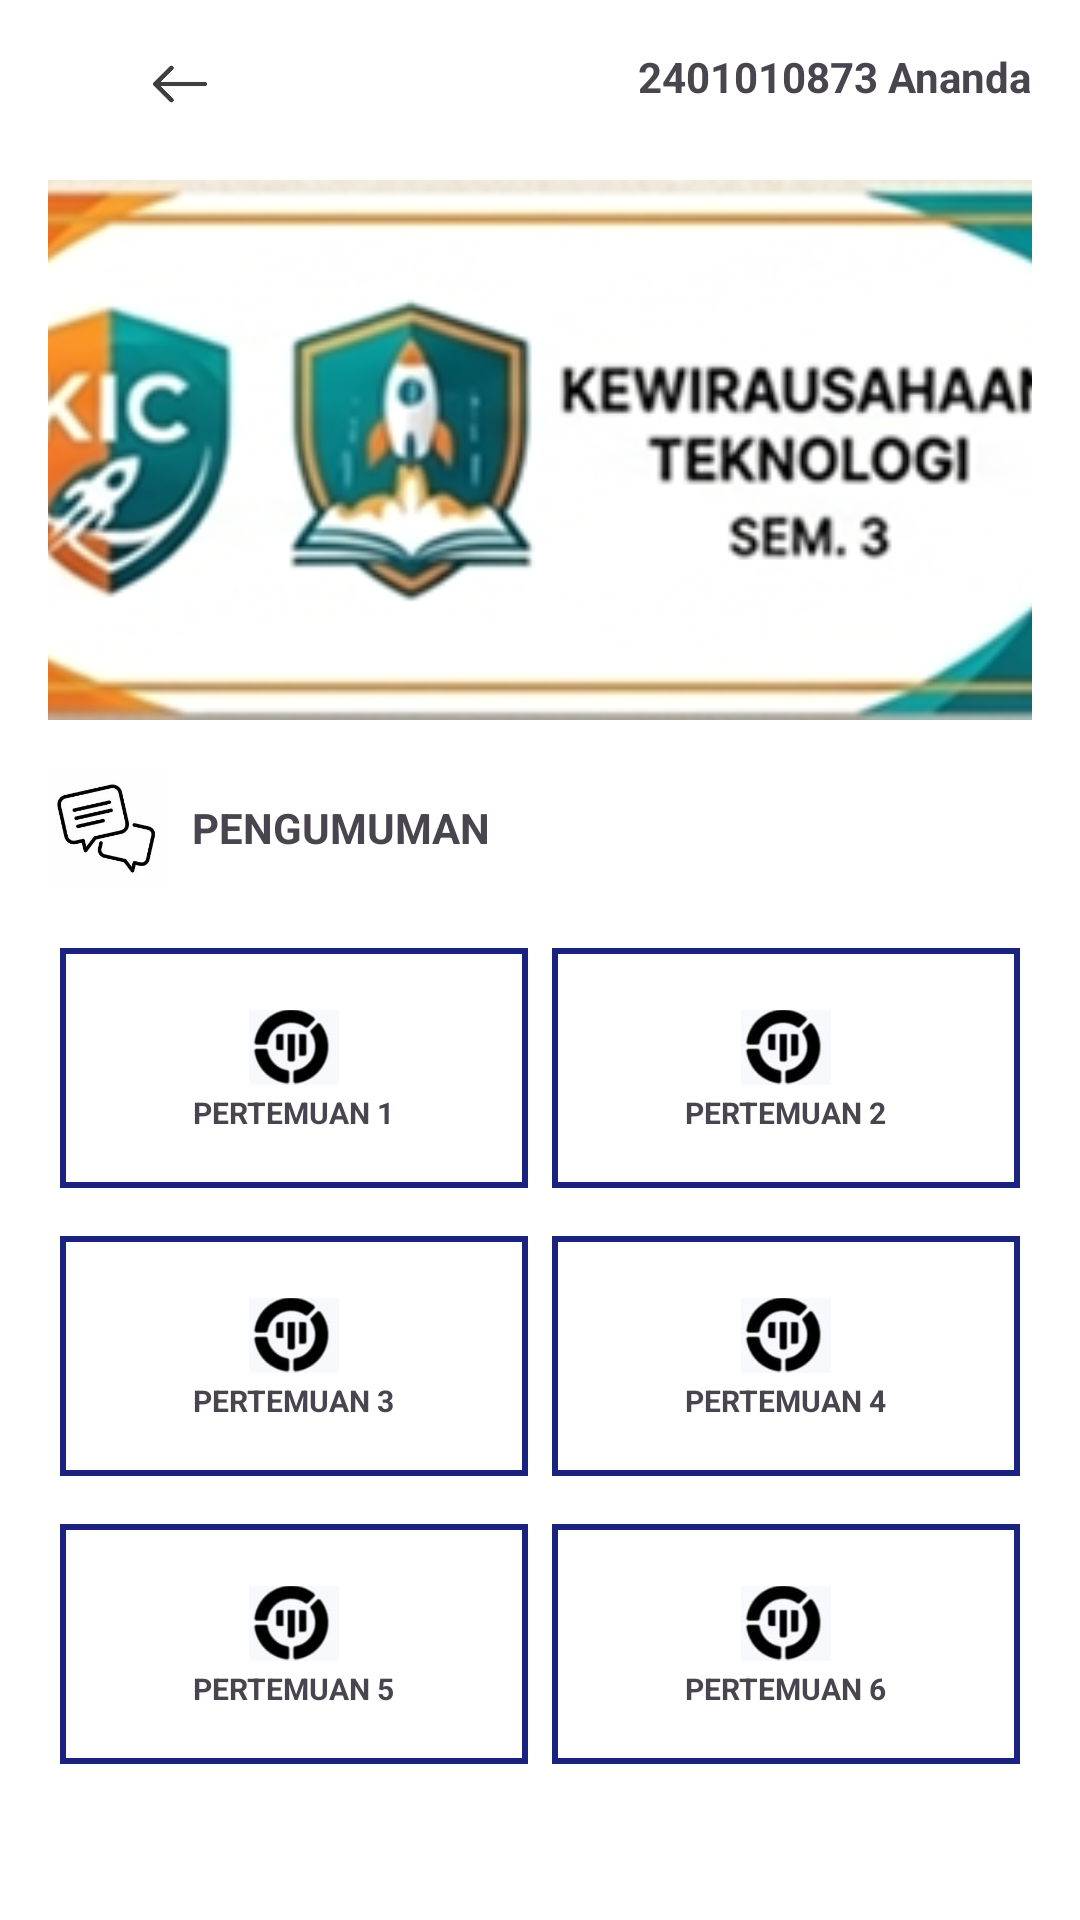

Named icons in this screenshot (1080×1920) and their centers, [x,y]:
announcementicon: [106,828]
arrow back: [180,84]
